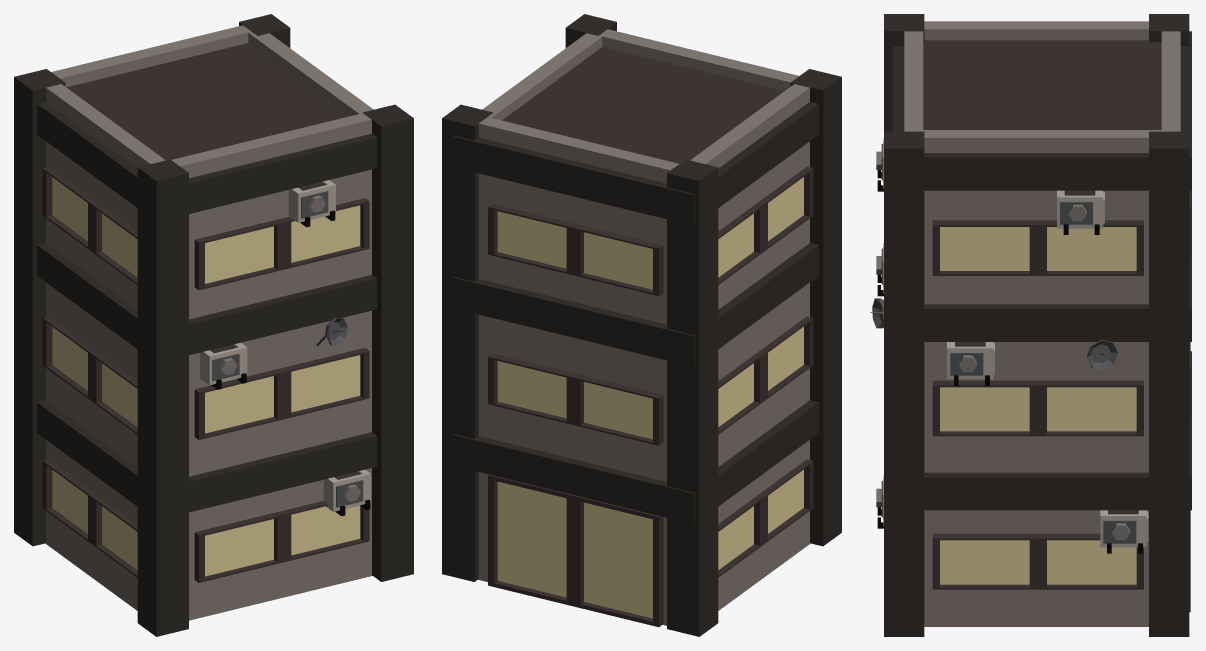
File: Building2A.fbx
3 views of the same model, side by side, from view 1: azimuth 30°, elevation 25°; view 2: azimuth 150°, elevation 25°; view 3: azimuth 270°, elevation 25° (orthographic). The views are drawn at different scales.
Visible parts, largest first — view 1: Cylinder.020_Cylinder.001; view 2: Cylinder.020_Cylinder.001; view 3: Cylinder.020_Cylinder.001.
Part boxes in pixels (left/top/right/bottom): Cylinder.020_Cylinder.001: left=14, top=14, right=413, bottom=636; Cylinder.020_Cylinder.001: left=442, top=14, right=841, bottom=636; Cylinder.020_Cylinder.001: left=870, top=14, right=1191, bottom=636.
Bounding box in the file's own units: 4.62 × 7.6 × 4.53.
1 material, 1 textured.
